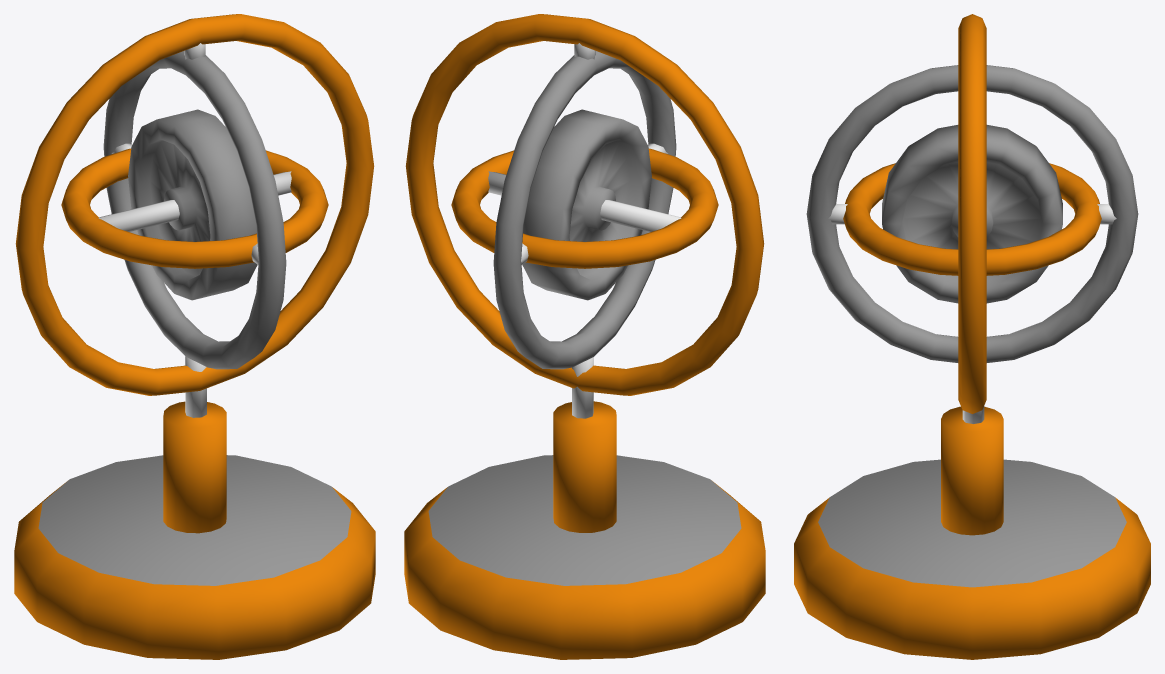
Rendered from gyroscope.fbx.
3 views of the same model, side by side, from view 1: azimuth 30°, elevation 25°; view 2: azimuth 150°, elevation 25°; view 3: azimuth 270°, elevation 25° (orthographic). The views are drawn at different scales.
Visible parts, largest first — view 1: base, outer, center, middle; view 2: base, outer, center, middle; view 3: base, center, middle, outer, poles.
Part boxes in pixels (x1=…): base: x1=14, y1=356, x2=375, y2=659; outer: x1=15, y1=14, x2=374, y2=395; center: x1=61, y1=109, x2=328, y2=300; middle: x1=103, y1=51, x2=286, y2=369; base: x1=404, y1=357, x2=765, y2=659; outer: x1=405, y1=14, x2=764, y2=395; center: x1=451, y1=109, x2=718, y2=300; middle: x1=493, y1=51, x2=676, y2=369; base: x1=794, y1=406, x2=1150, y2=659; center: x1=843, y1=125, x2=1101, y2=303; middle: x1=806, y1=65, x2=1138, y2=362; outer: x1=958, y1=14, x2=986, y2=413; poles: x1=828, y1=204, x2=1116, y2=224.
Size of the model in its own units: 17.2 by 26.1 by 15.27.
